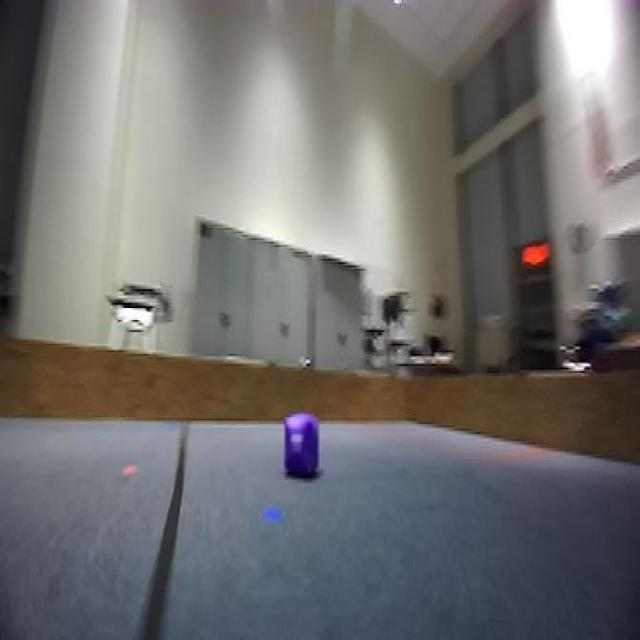frc_cube: (284, 417, 322, 482)
